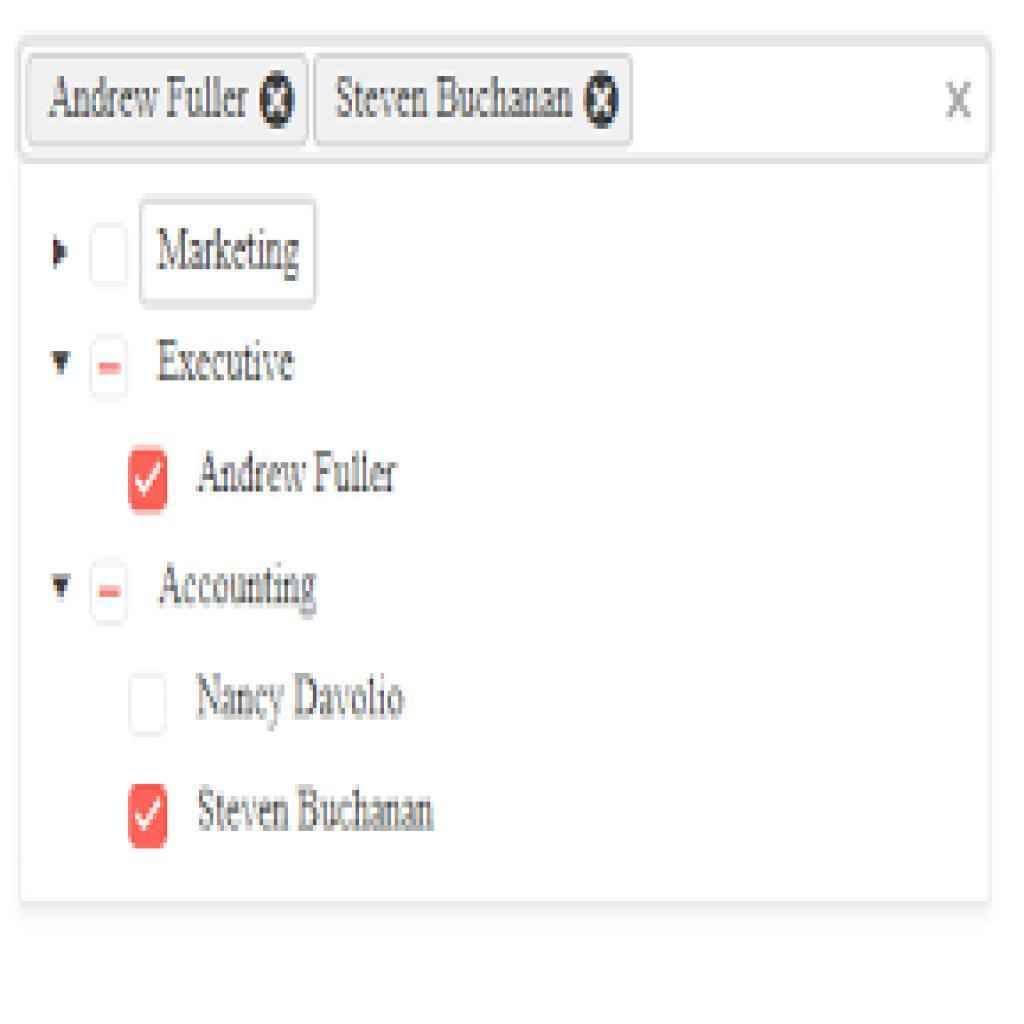button: (142, 204, 316, 303)
checkbox: (128, 783, 172, 849), (128, 447, 169, 513), (90, 225, 131, 284), (91, 339, 128, 403), (129, 677, 167, 738), (94, 563, 127, 626)
